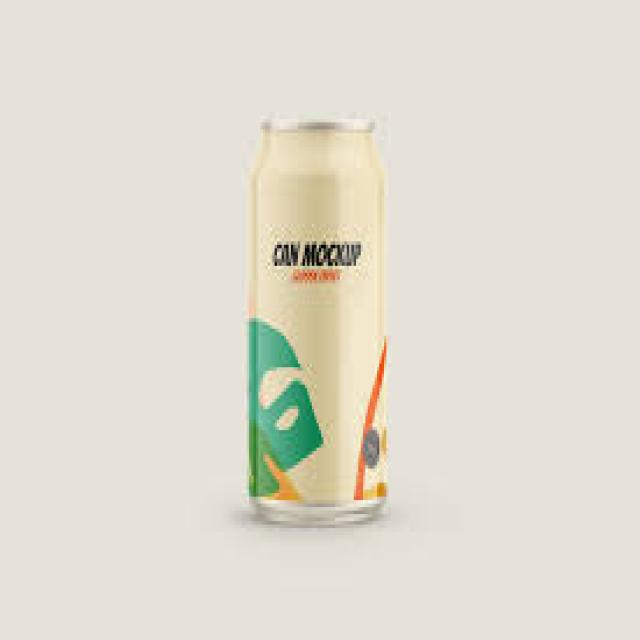Cans: (240, 105, 393, 535)
